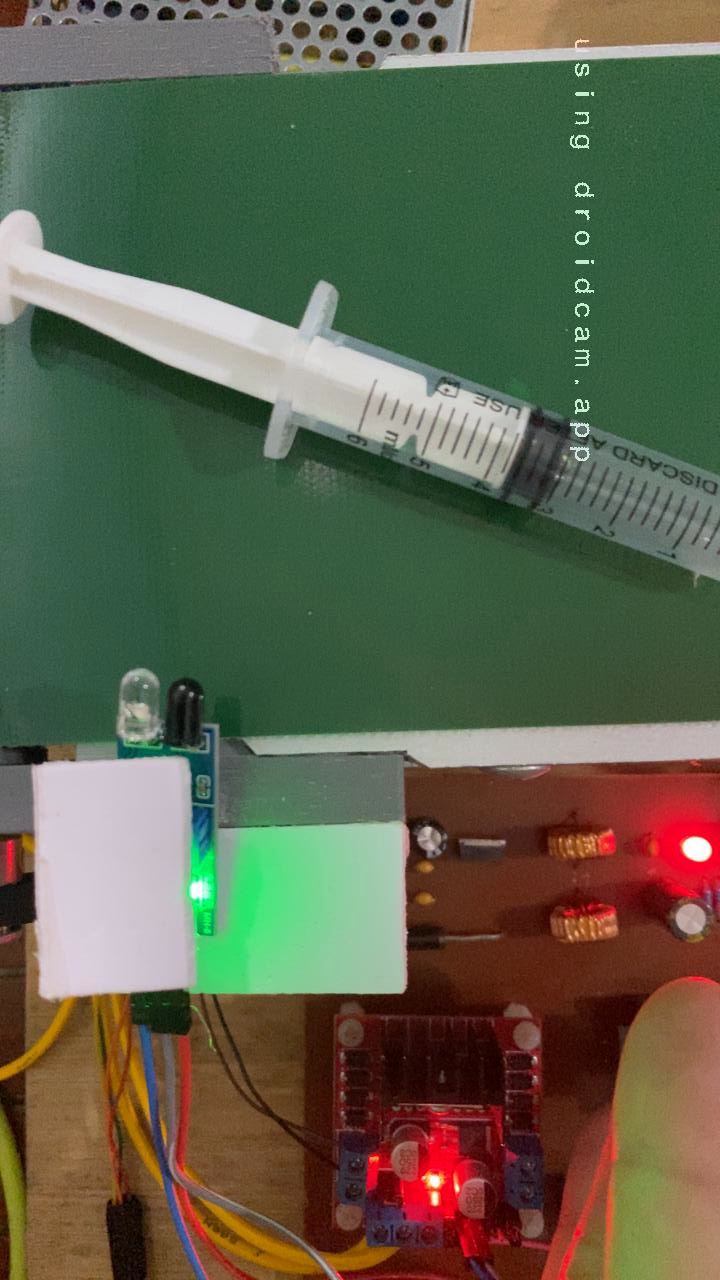syringe: (0, 202, 720, 588)
